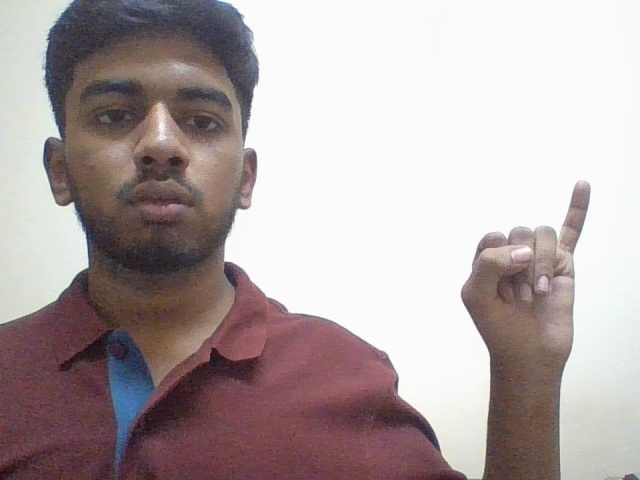I: (453, 159, 614, 393)
